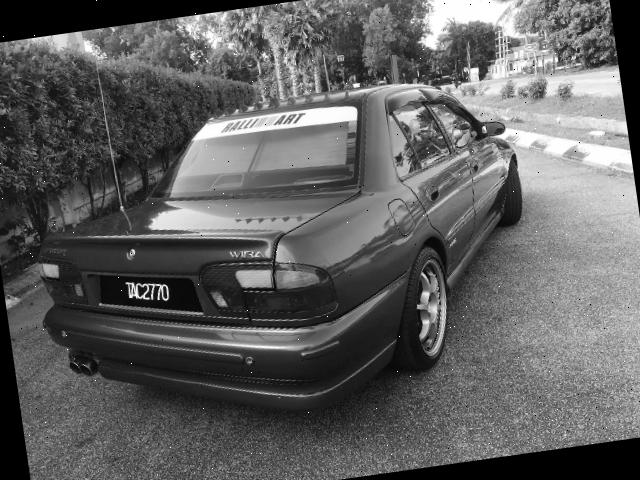License_Plate: (104, 269, 186, 320)
car: (6, 64, 556, 449)
